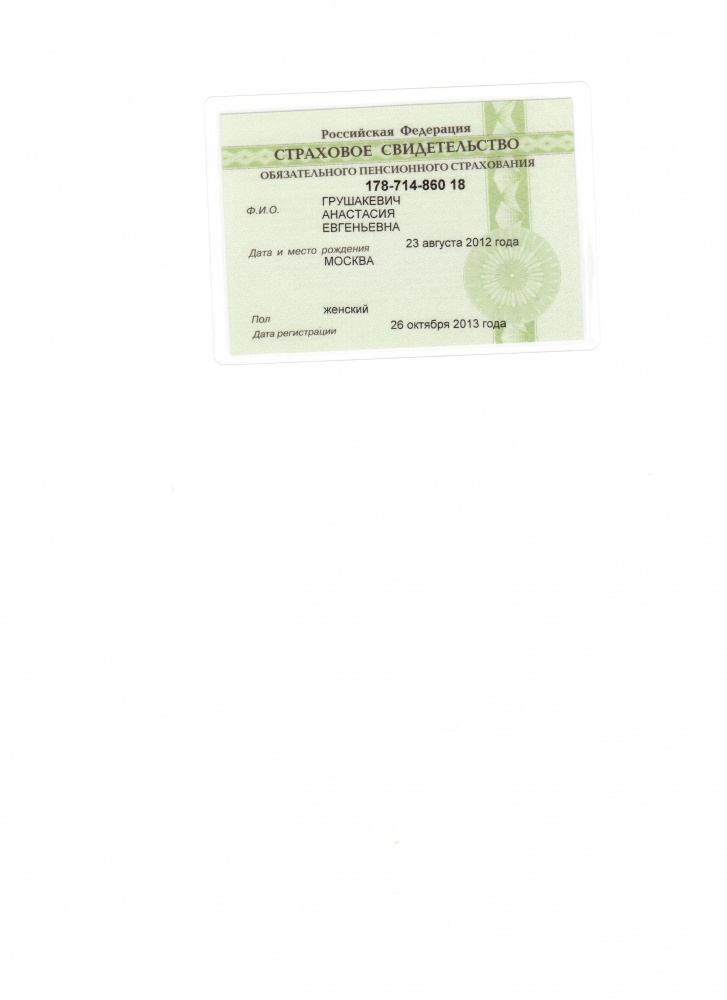text: (389, 318, 509, 332), (403, 236, 522, 249), (363, 177, 466, 192), (320, 220, 401, 234), (320, 194, 403, 206), (320, 208, 398, 220), (322, 254, 375, 268), (322, 305, 372, 315)
